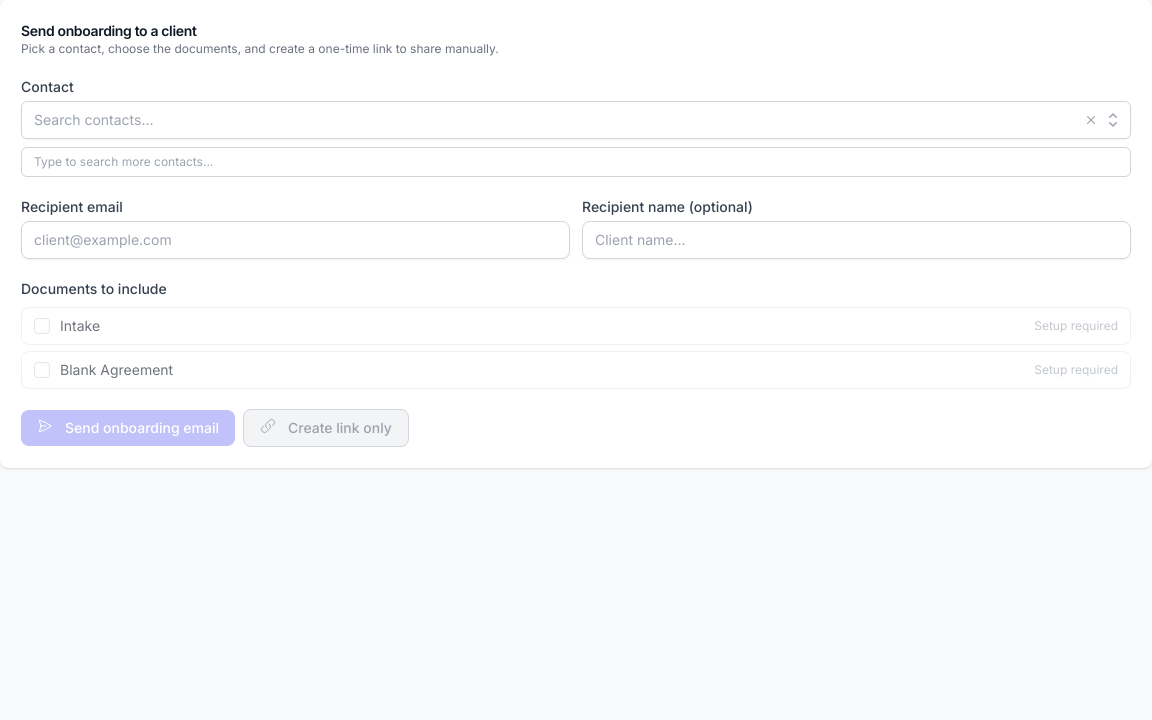
OnboardingSendPanel saved-packet preselect › blocks sending a packet with a not-ready member and names it
Type "client@acme.test" into the field labelled "Recipient email" at coordinates (296, 240), box left=21, top=221, right=570, bottom=259
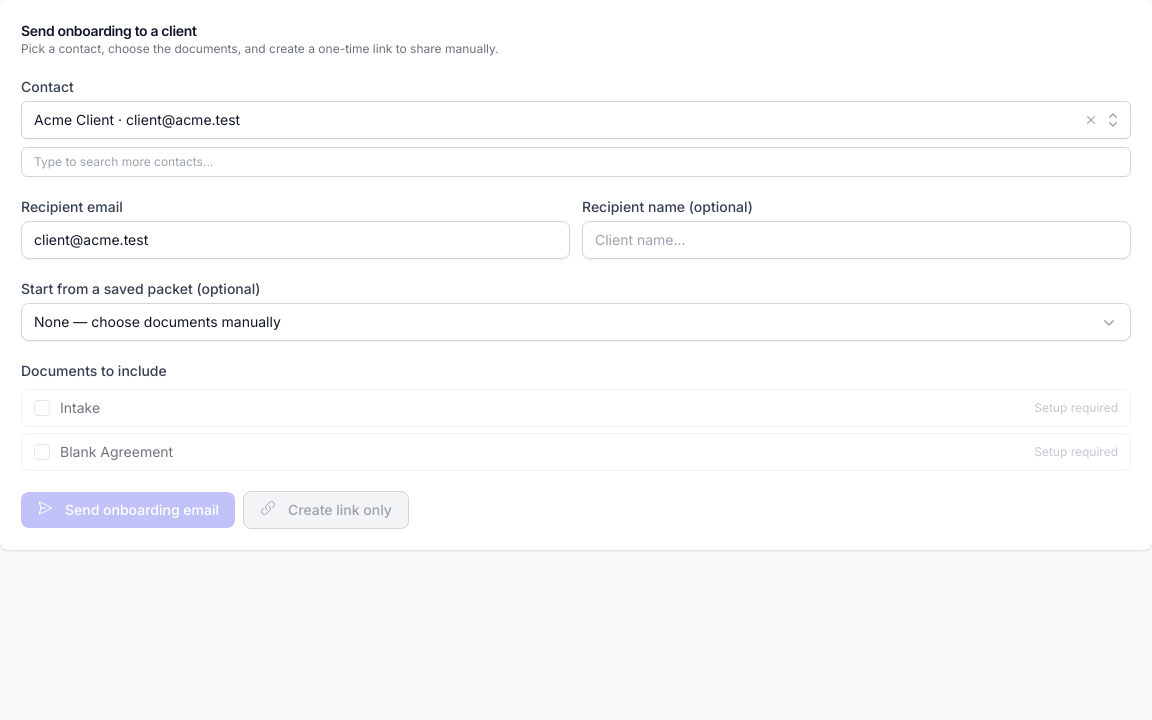
Select "Half-built (needs setup)" in the dropdown labelled "Start from a saved packet (optional)" at coordinates (576, 322), box left=21, top=303, right=1131, bottom=341
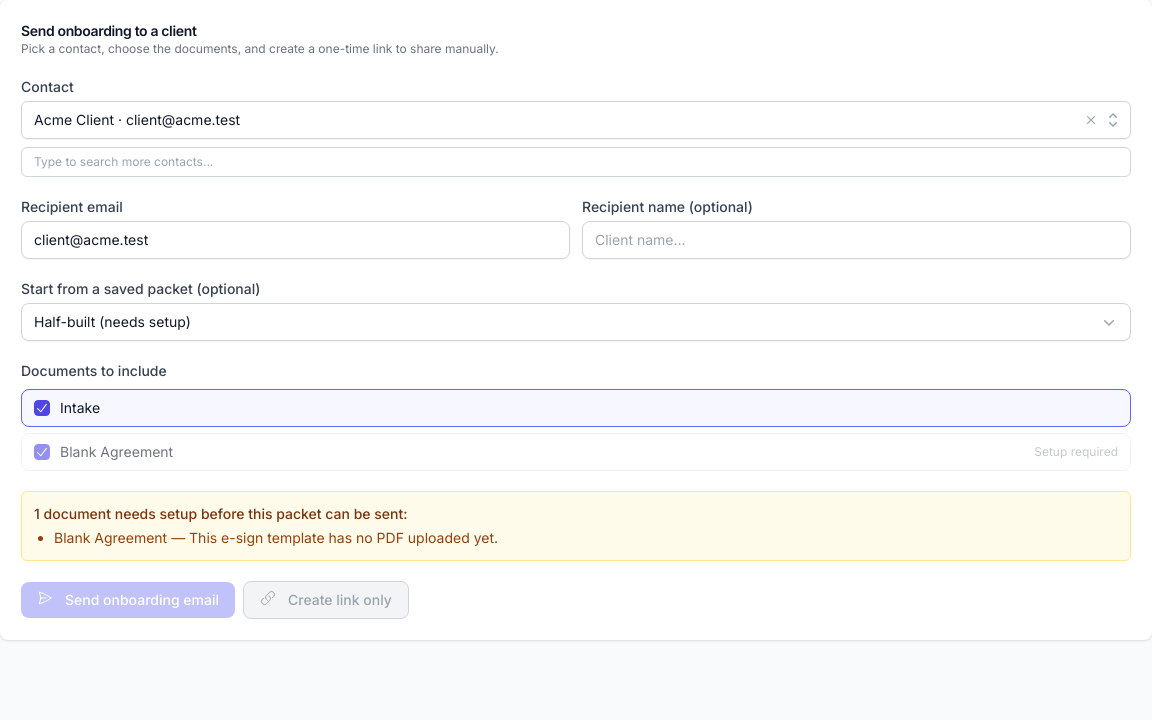
Expected: the button "Send onboarding email" is disabled, left=21, top=582, right=235, bottom=618
Now the message shows "Blank Agreement", box left=54, top=529, right=167, bottom=546
